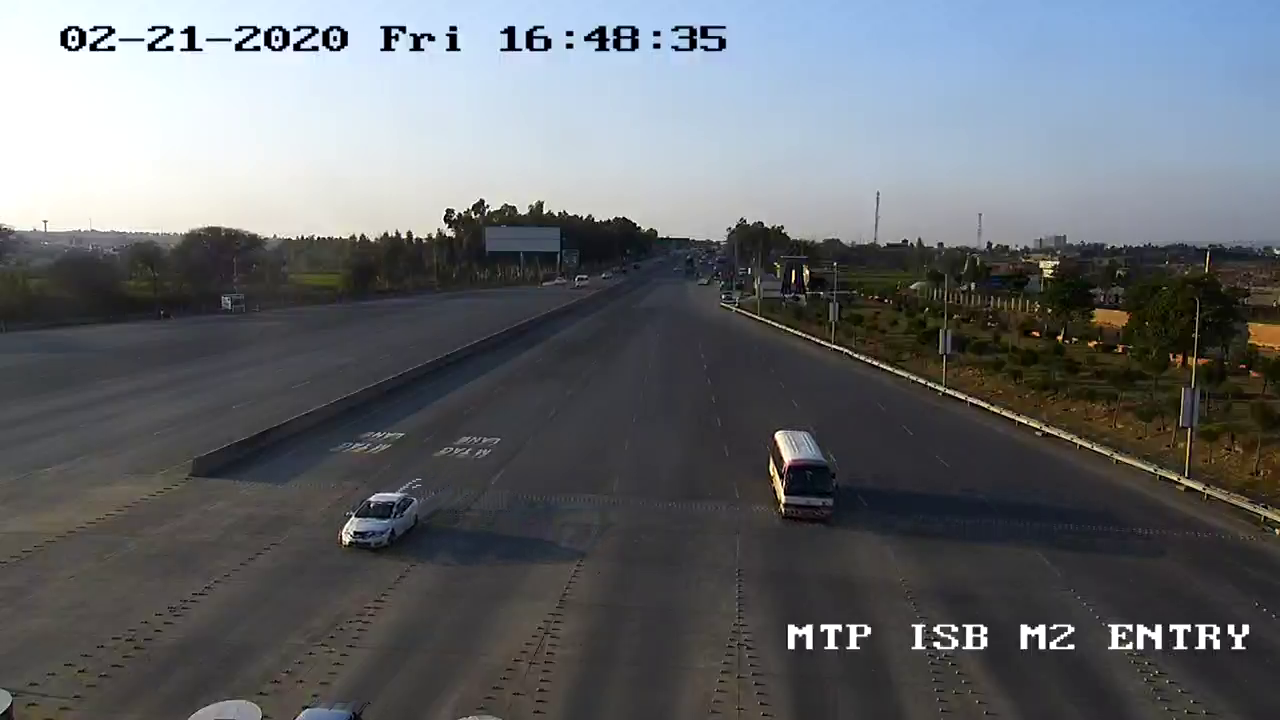f1: (325, 478, 431, 563)
f3: (757, 422, 846, 532)
